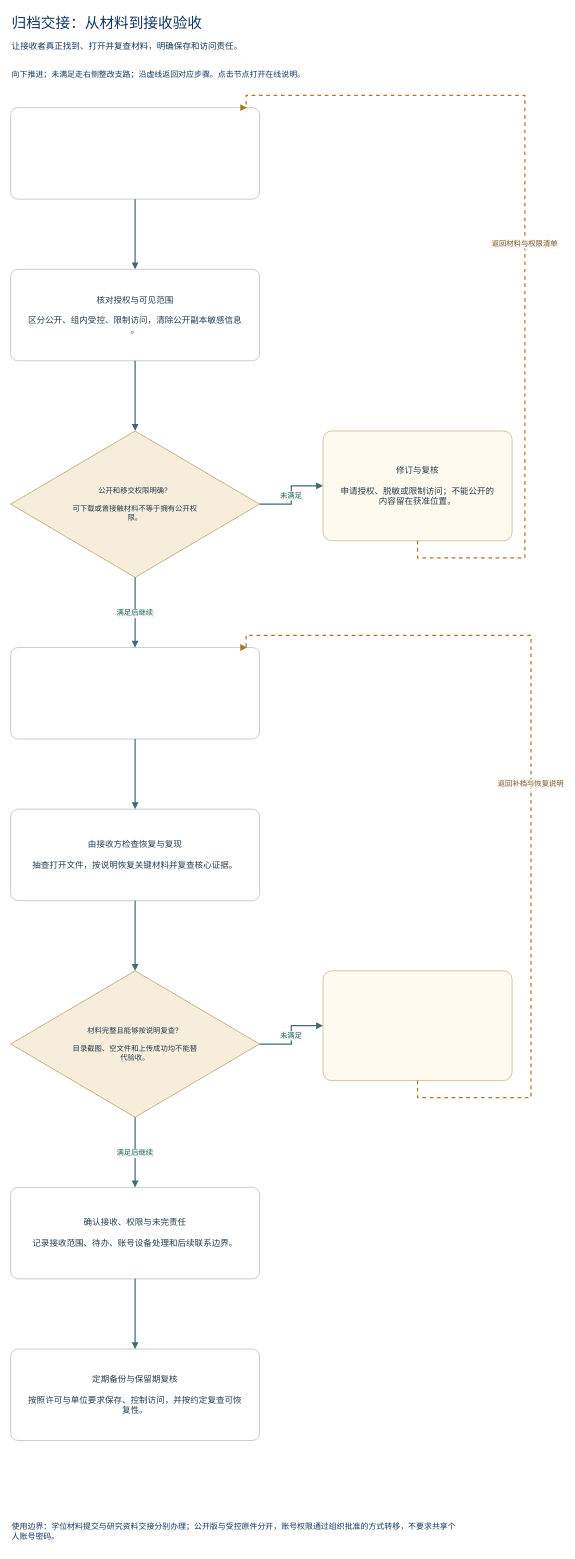
Image size: 575x1559. Some labels were removed from this diagram. Here are the shapes that lost their labels. From the top down, the centre of each, then its label:
At point 135,153: "整理材料与版本索引 列出论文、代码、数据、日志、分析、说明、许可及未完 事项。".
At point 135,693: "整理归档包与恢复说明 补充数据来源、版本、依赖、命令、校验值、负责人和保 存期。".
At point 417,1025: "修订与复核 补齐缺档并重新验收；不可恢复项如实写 明原因和影响。".
